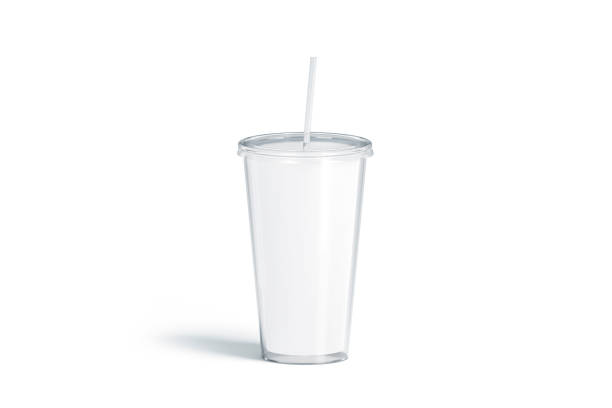plastic_glass: (234, 128, 375, 369)
